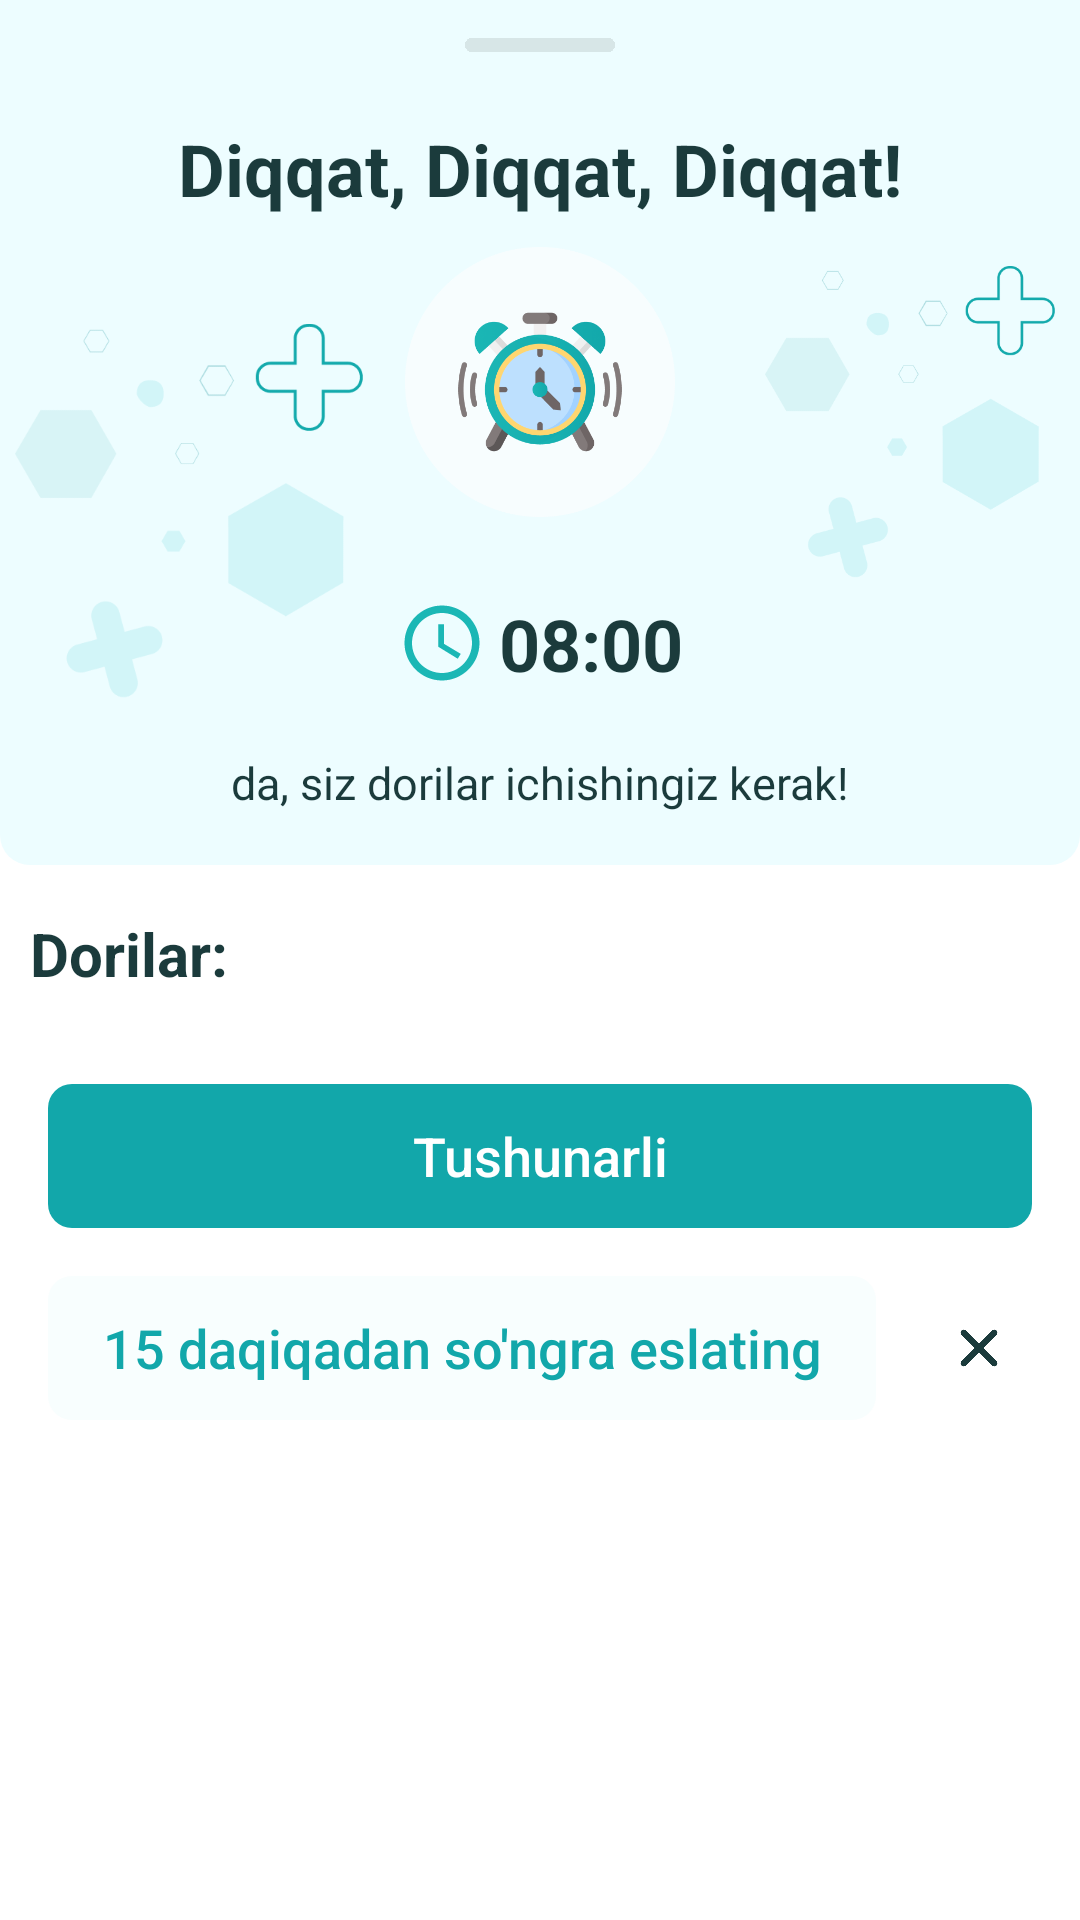

Screen size 1080 × 1920. Icon name, then its box in pixels as (x1,y1,x2,y2):
clock: (404,605,480,681)
notif cancel: (960,1329,998,1367)
notif clock: (458,312,622,452)
